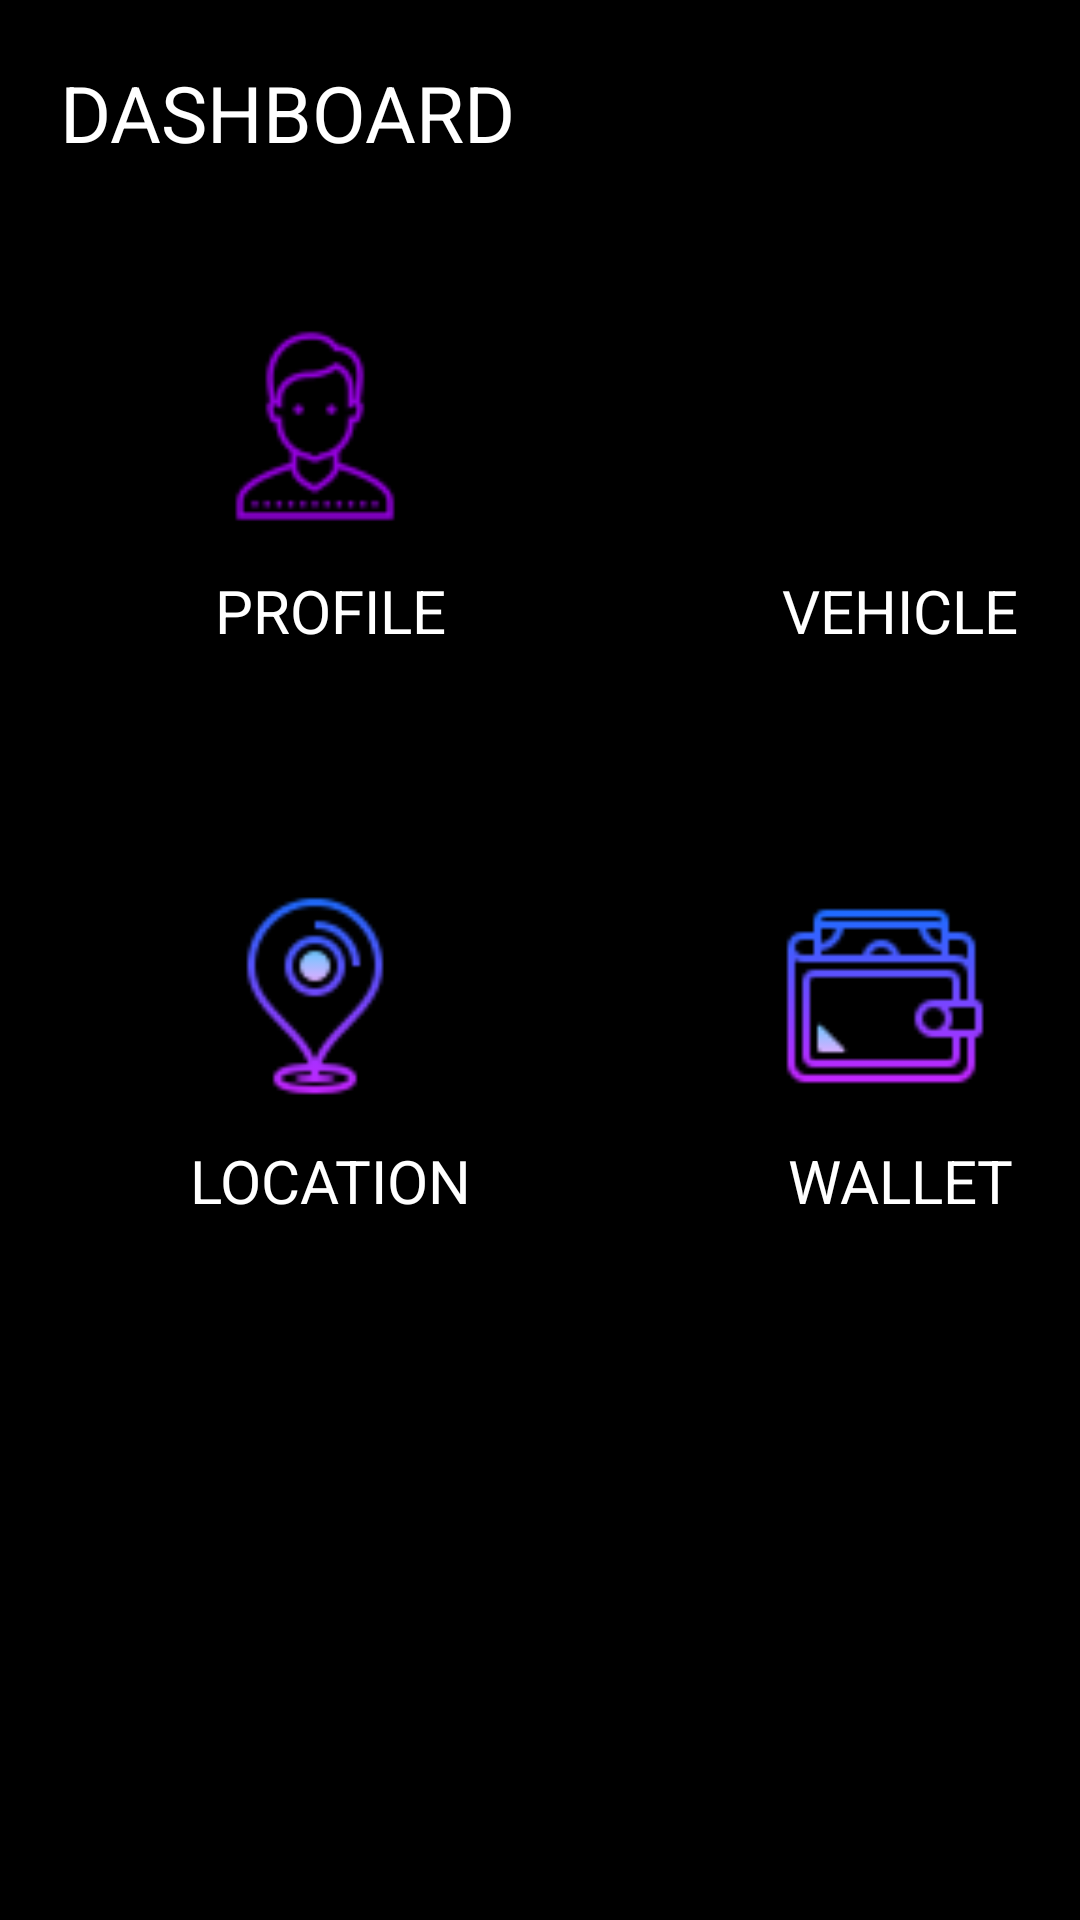

Named icons in this screenshot (1080x1920) and their bounding boxes, {"x1": x1, "y1": y1, "x2": x2, "y2": y2}:
person: {"x1": 235, "y1": 331, "x2": 395, "y2": 521}
